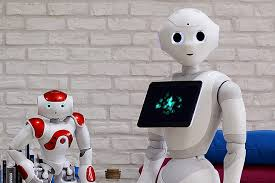nao: (7, 87, 100, 183)
